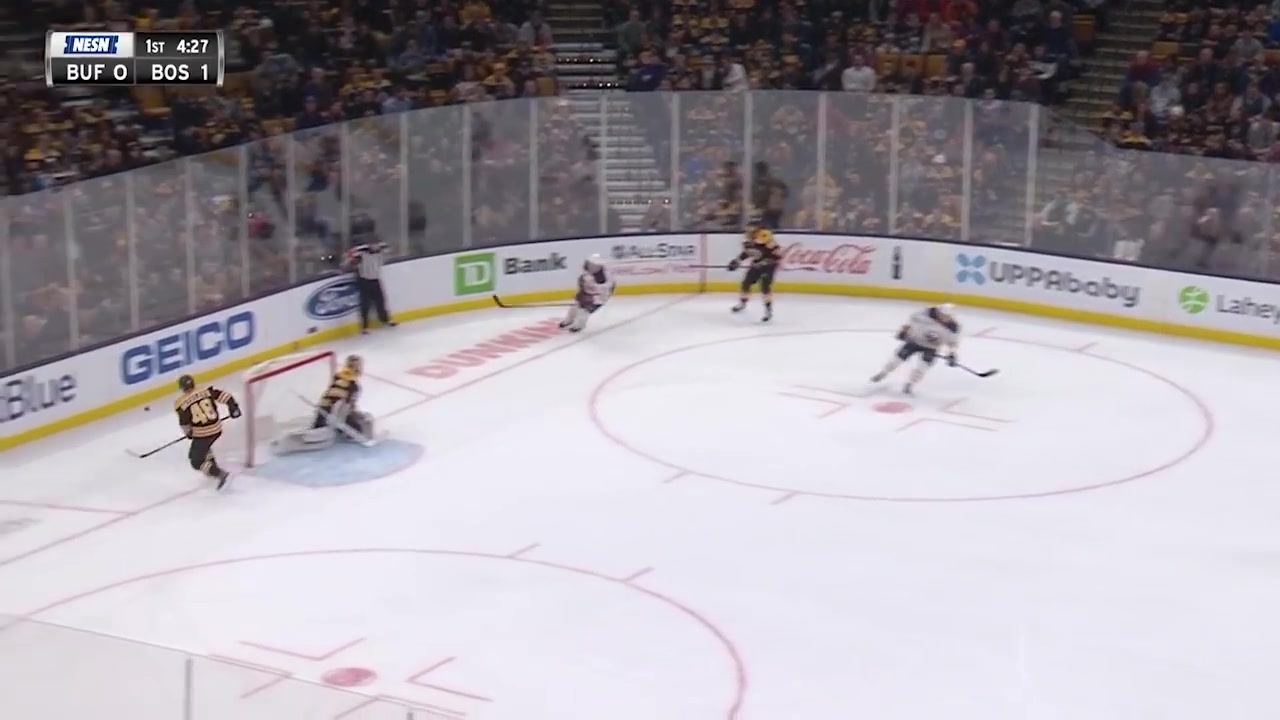geico: (118, 307, 272, 391)
